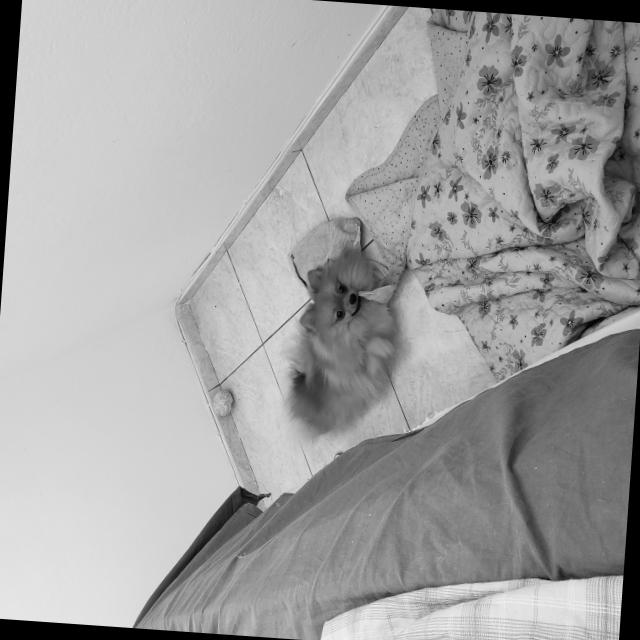laying down: (281, 244, 409, 461)
